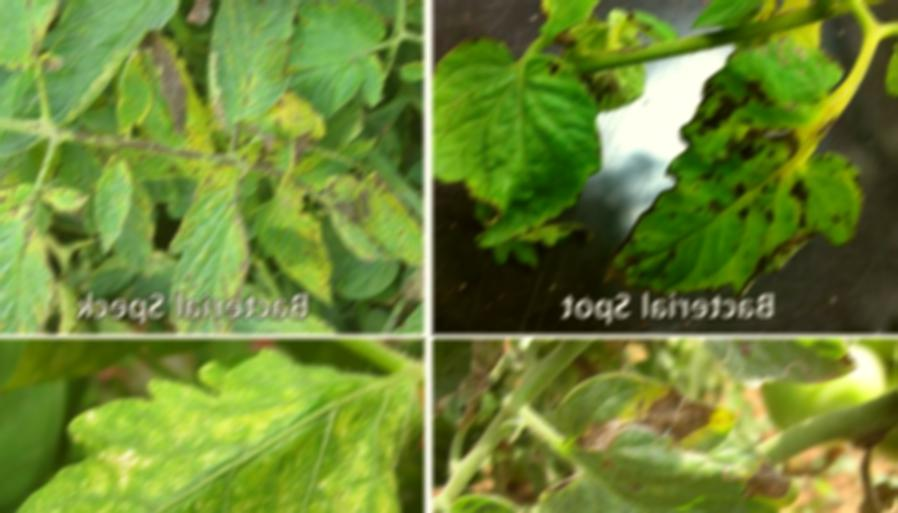Tomato Early blight leaf: (523, 366, 852, 513)
Tomato leaf bacterial spot: (602, 37, 884, 315), (433, 25, 612, 289), (264, 0, 408, 121), (201, 0, 317, 147), (176, 150, 260, 331), (0, 164, 91, 331), (254, 158, 337, 325), (318, 170, 413, 283), (111, 40, 164, 147)
